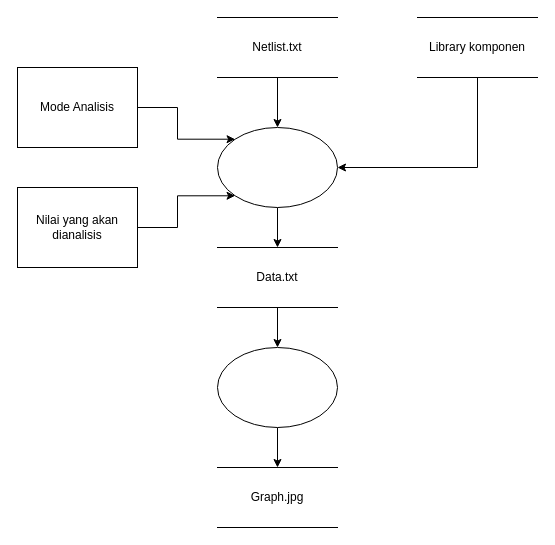
Image size: 555x545. Some labels were removed from this diagram. The shapes that lost their labels are listed below. From the top down, each one's centre as x and y in pixels, then its label:
At pixel 277 167: "Analisis".
At pixel 277 387: "Microsoft Excel".
